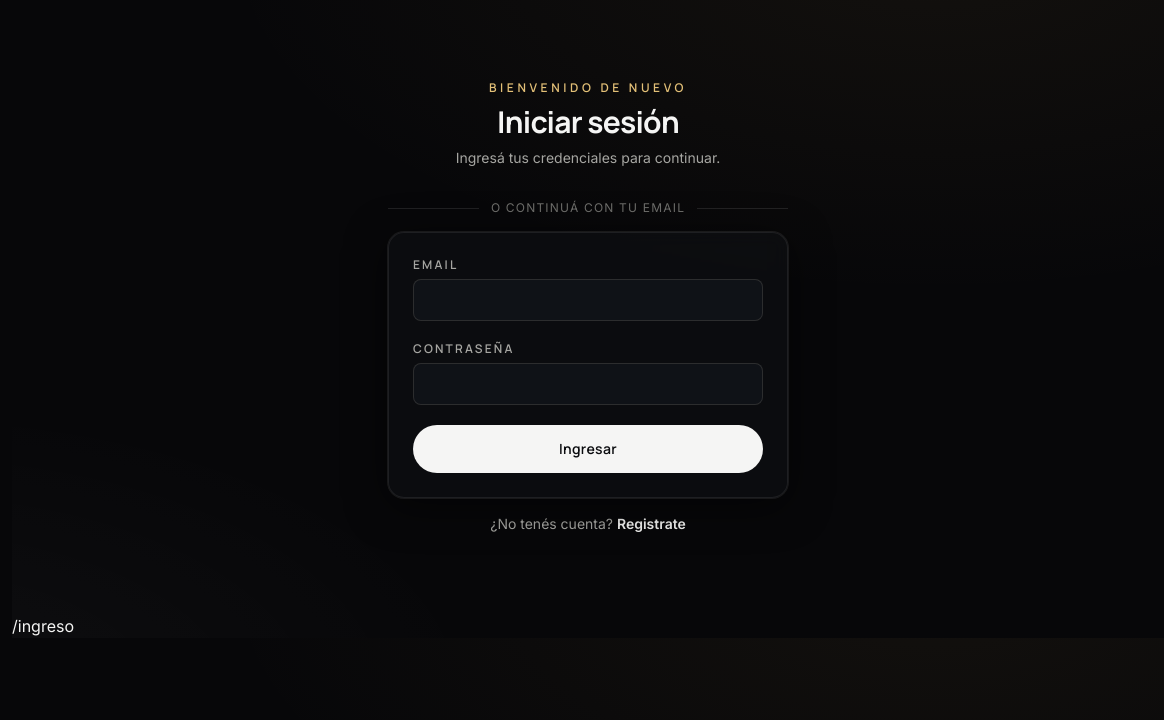
Test: InicioSesion › conserva search y hash del destino previo
Type "ana@ejemplo.com" into the field labelled "Email".
click(588, 300); type("ana@ejemplo.com")  # box [413,279,763,321]
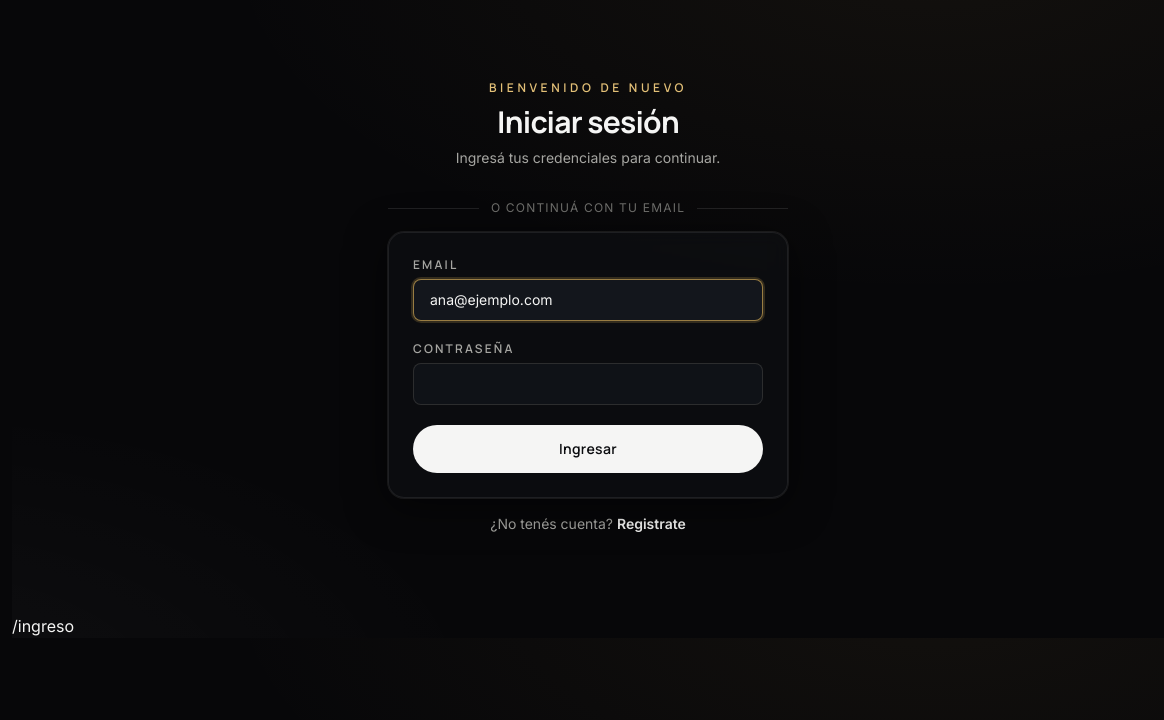
Type "secreto123" into the password field labelled "Contraseña".
click(588, 384); type("secreto123")  # box [413,363,763,405]
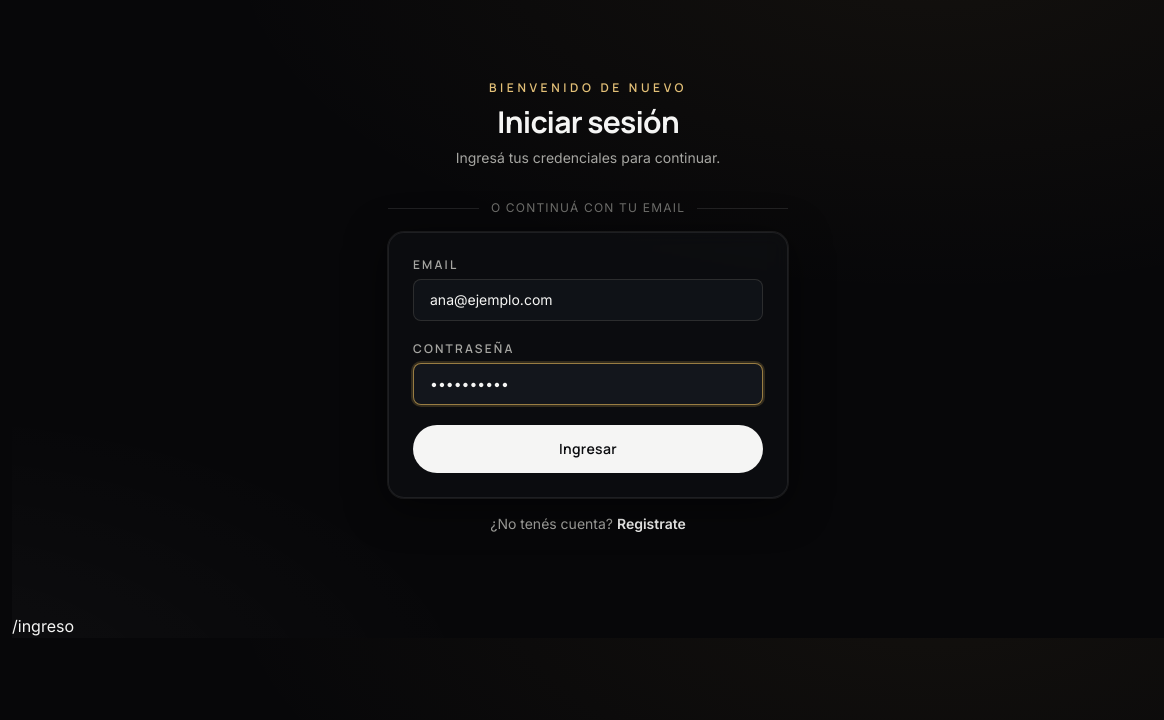
Click the button "Ingresar".
click(588, 449)  # box [413,425,763,473]
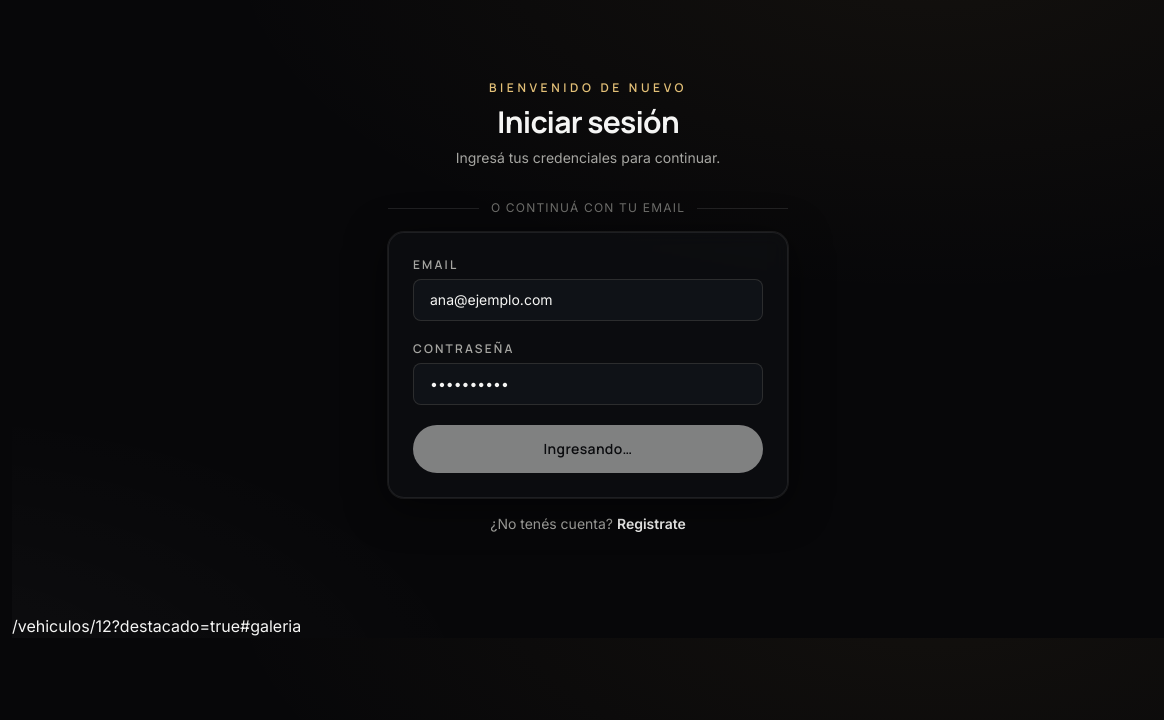
Expected: the text with test id "ubicacion" reads "/vehiculos/12?destacado=true#galeria", [12,616,301,636]
